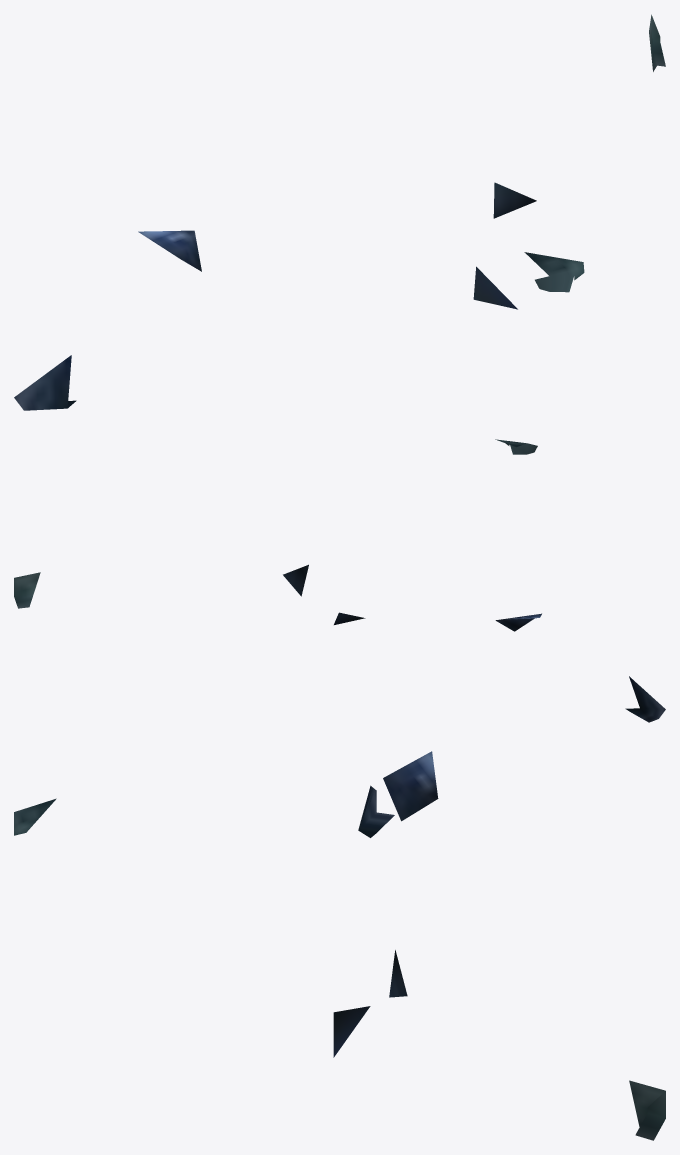
The picture shows the model from 3 angles, top to bottom: view 1: azimuth 30°, elevation 25°; view 2: azimuth 150°, elevation 25°; view 3: azimuth 270°, elevation 25°; orthographic projection. The views are drawn at different scales.
Parts seen in each view (by area): view 1: 30436272704370417426_1; view 2: 30436272704370417426_1; view 3: 30436272704370417426_1.
Boxes of the visible parts, x1,y1,x2,y2 form: 30436272704370417426_1: (14,14,665,410); 30436272704370417426_1: (14,439,665,722); 30436272704370417426_1: (14,751,665,1140).
Bounding box in the file's own units: 23.78 × 5.4 × 16.36.
1 material, 1 textured.
